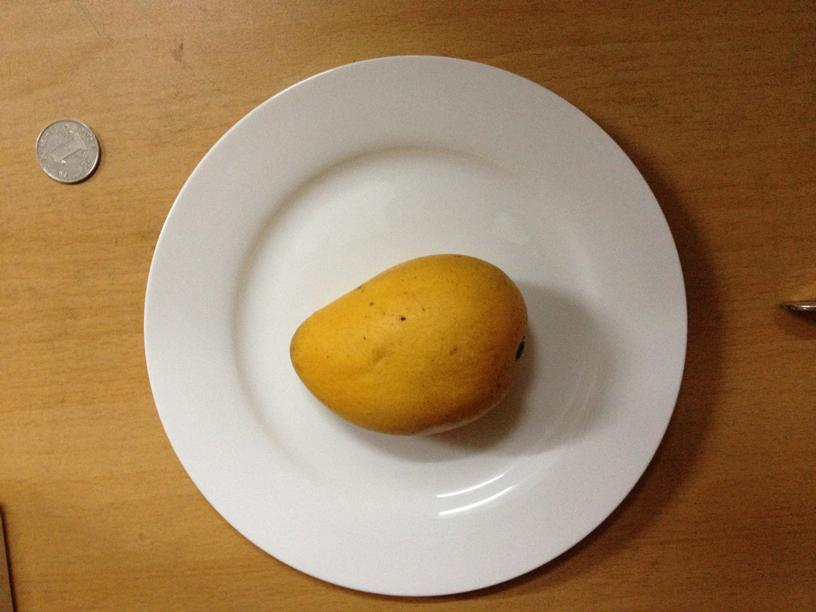coin: (33, 120, 99, 182)
mango: (287, 255, 527, 437)
